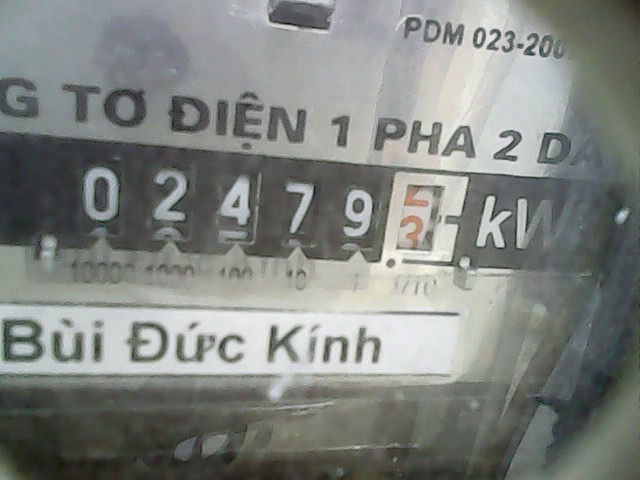phy_plate: (62, 145, 475, 271)
